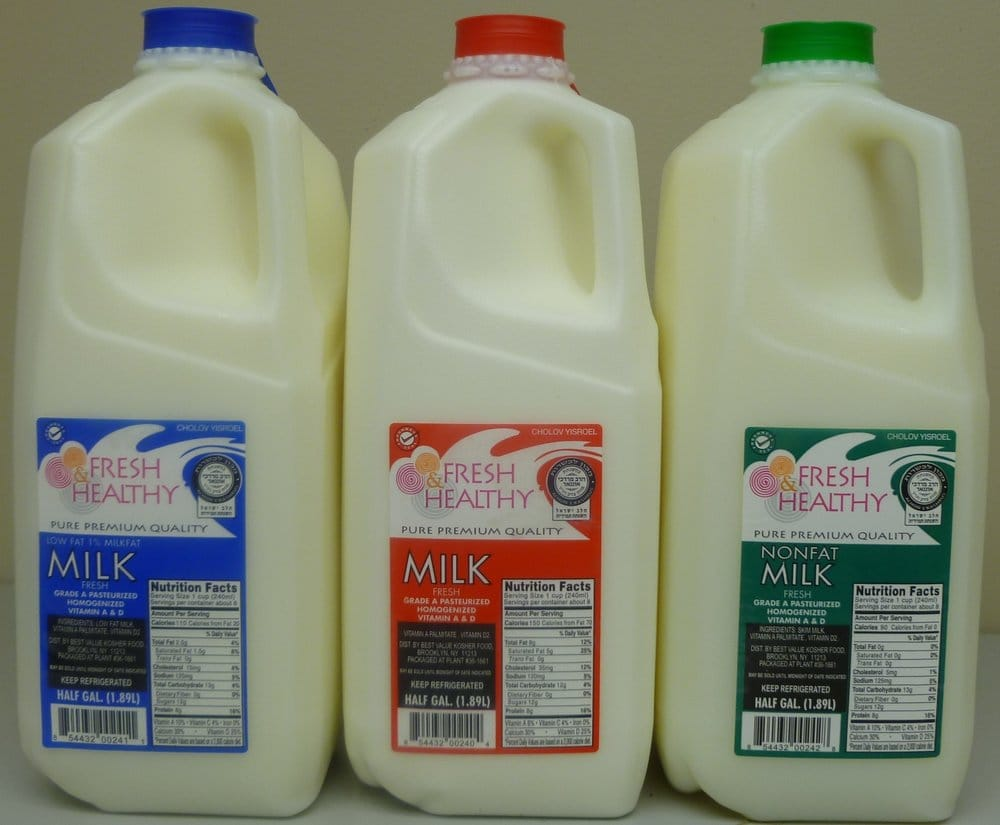milk: (23, 14, 349, 818), (674, 16, 986, 825), (364, 16, 663, 816)
